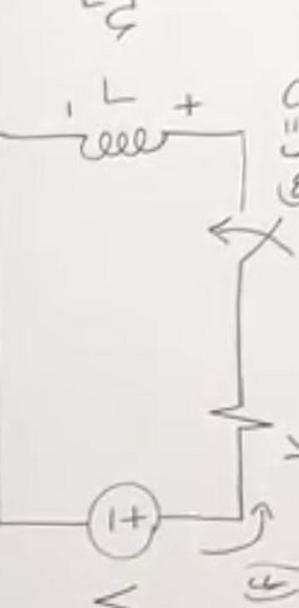Battery: (71, 468, 172, 569)
